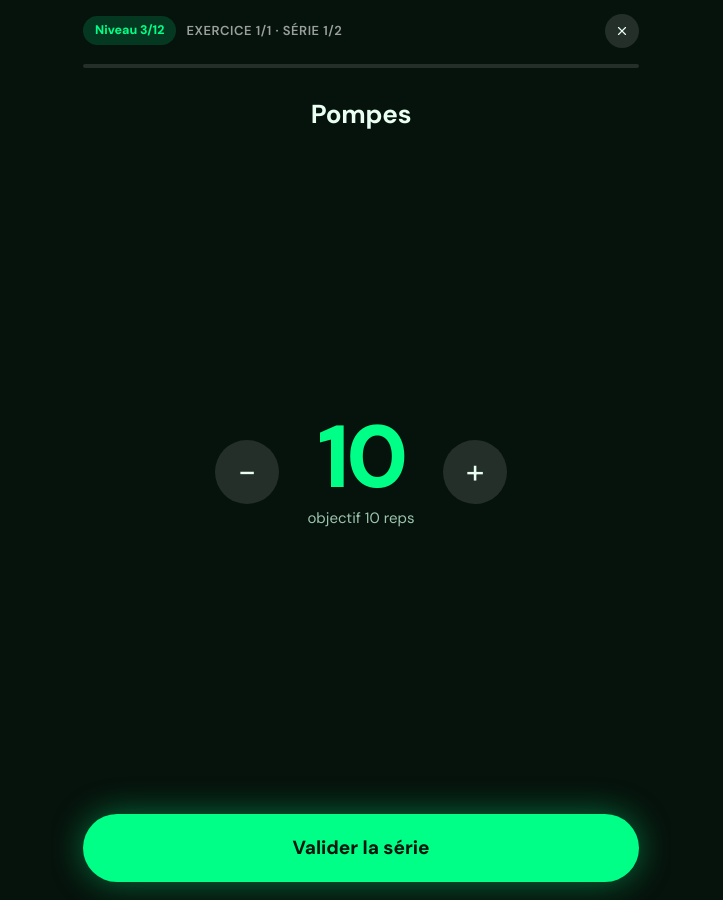
Test: parcours d une seance sans chrono › invalide le niveau des qu une seule serie est manquee
The image size is (723, 900).
Premiere serie a l'objectif, seconde une repetition en dessous.
Click the button "Valider la série" at (361, 848), box [83,814,639,882]
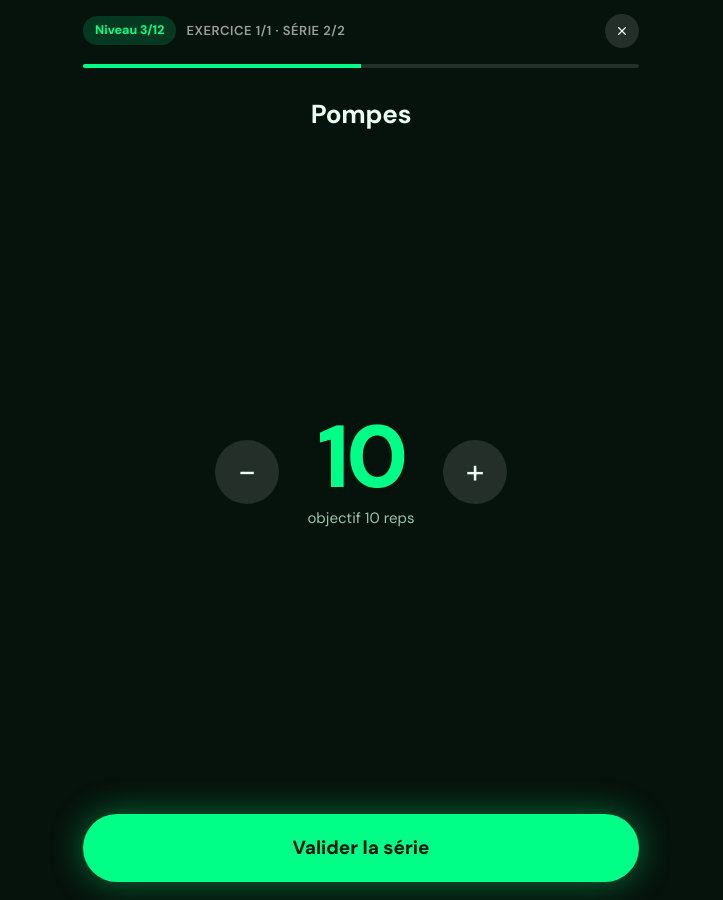
Click the button named "Retirer une répétition" at (247, 472), box [215,440,279,504]
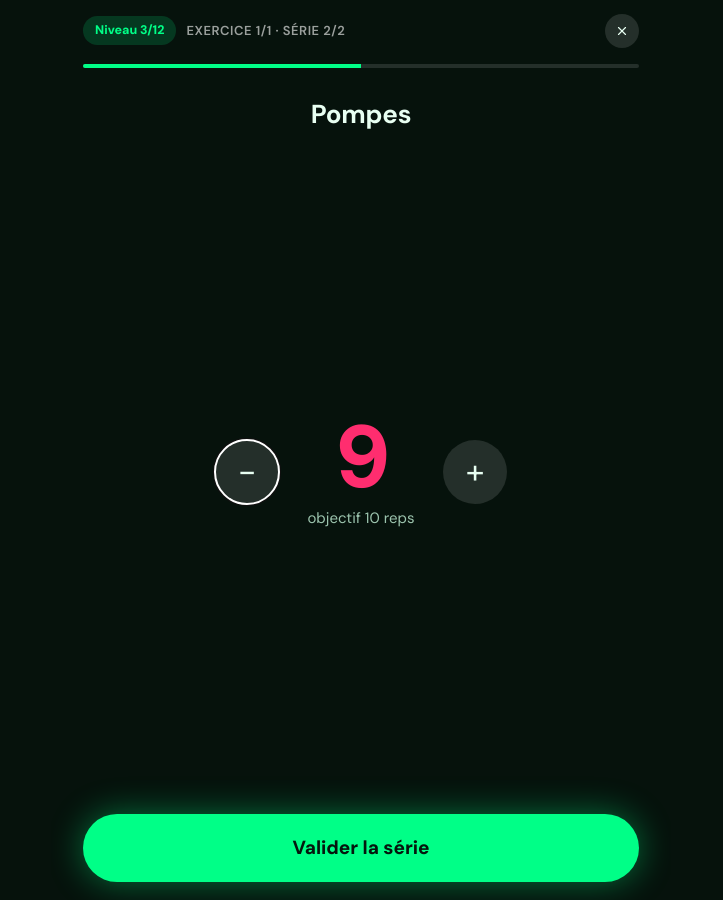
Click the button "Valider la série" at (361, 848), box [83,814,639,882]
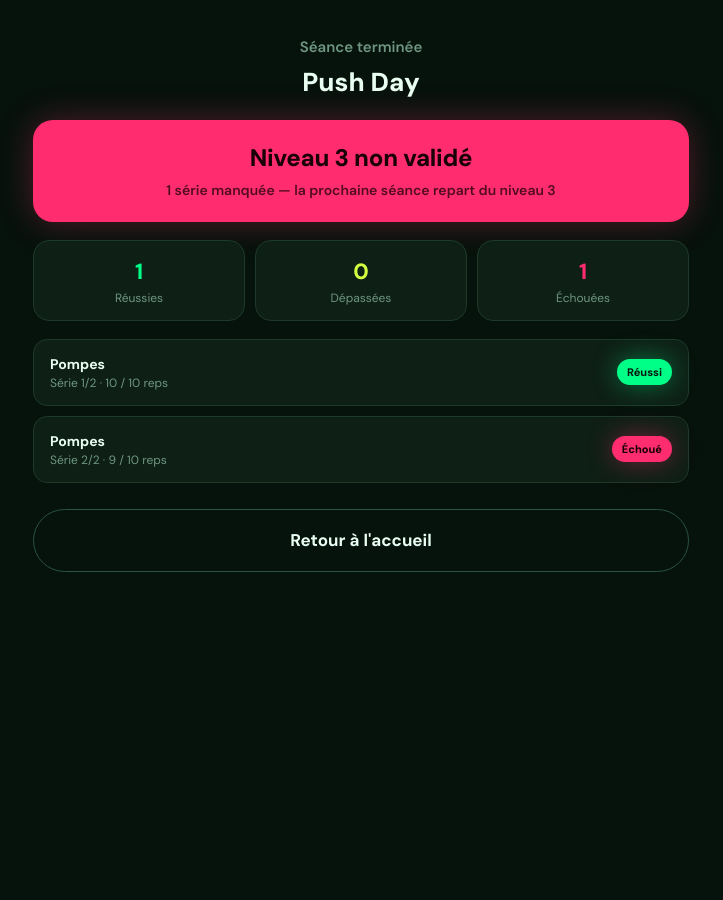
Expected: the text "Niveau 3 non validé" is shown, [250,142,472,172]
Expected: the text "1 série manquée — la prochaine séance repart du niveau 3" is shown, [166,180,556,198]
